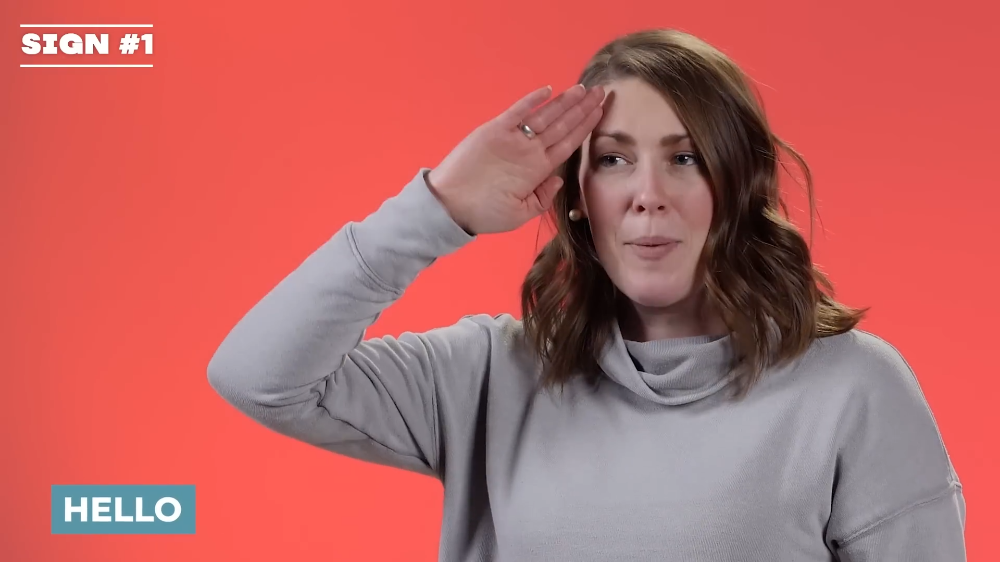hello: (450, 78, 606, 224)
